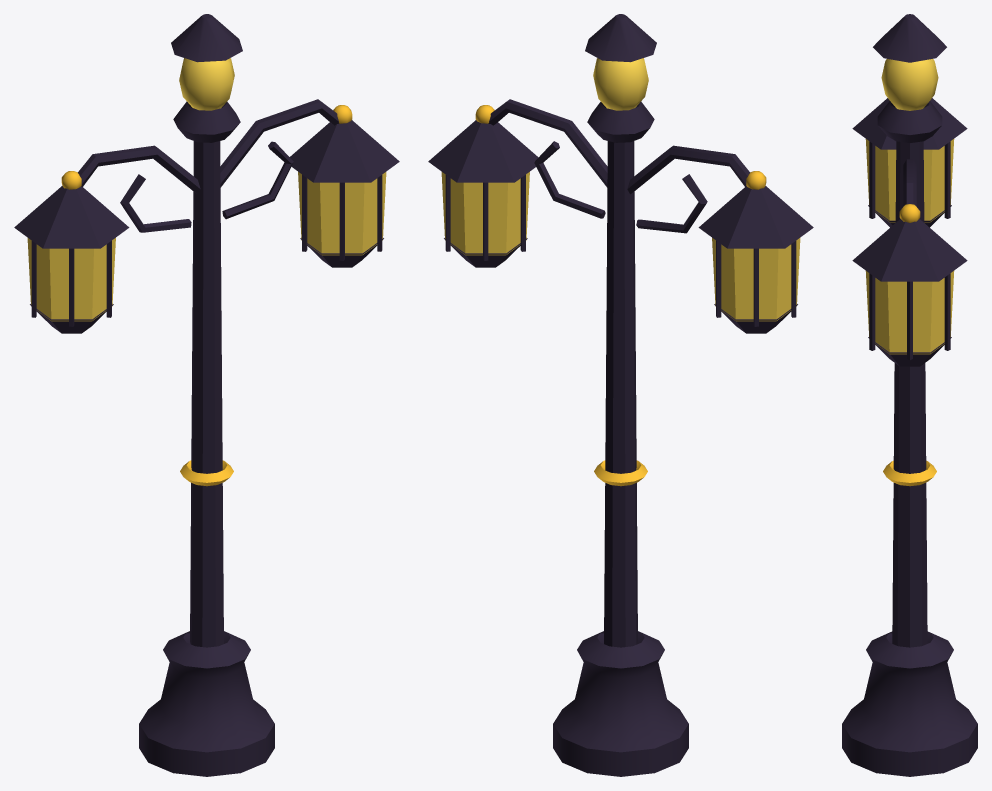
File: lobby_lamp.obj
3 renders of one model, left to right at view 1: azimuth 30°, elevation 25°; view 2: azimuth 150°, elevation 25°; view 3: azimuth 270°, elevation 25°, orthographic.
Parts seen in each view (by area): view 1: lobby_lamp, lobby_lamp_Neon; view 2: lobby_lamp, lobby_lamp_Neon; view 3: lobby_lamp, lobby_lamp_Neon.
Part boxes in pixels (x1,y1,x2,y2): lobby_lamp: (14, 14, 399, 776); lobby_lamp_Neon: (27, 58, 386, 321); lobby_lamp: (428, 14, 813, 776); lobby_lamp_Neon: (441, 58, 800, 321); lobby_lamp: (842, 14, 977, 776); lobby_lamp_Neon: (865, 59, 954, 354).
Size of the model in its own units: 6.07 by 11.9 by 2.
Materials: 2 (2 with a texture image).
